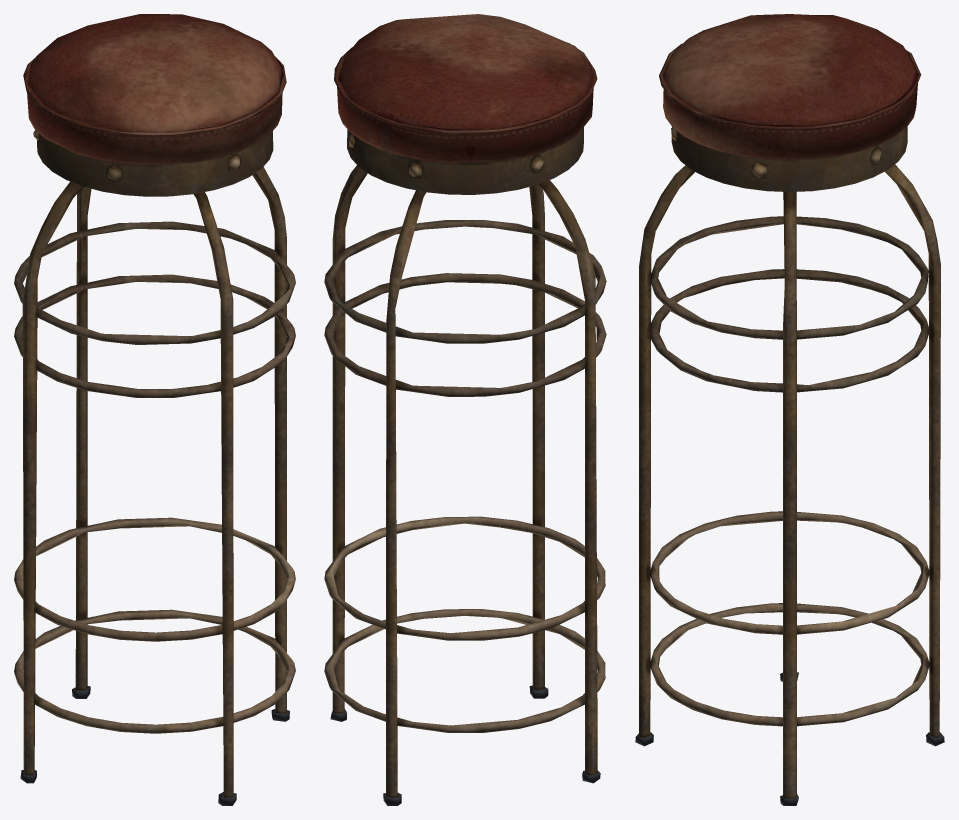
The picture shows the model from 3 angles, left to right: view 1: azimuth 30°, elevation 25°; view 2: azimuth 150°, elevation 25°; view 3: azimuth 270°, elevation 25°; orthographic projection.
Parts seen in each view (by area): view 1: metal_stool_01; view 2: metal_stool_01; view 3: metal_stool_01.
Part boxes in pixels (bbox=[...]): metal_stool_01: bbox=[14, 14, 295, 805]; metal_stool_01: bbox=[324, 14, 606, 805]; metal_stool_01: bbox=[635, 14, 944, 805].
Bounding box in the file's own units: 0.3505 × 0.8822 × 0.3538.
1 material, 1 textured.
